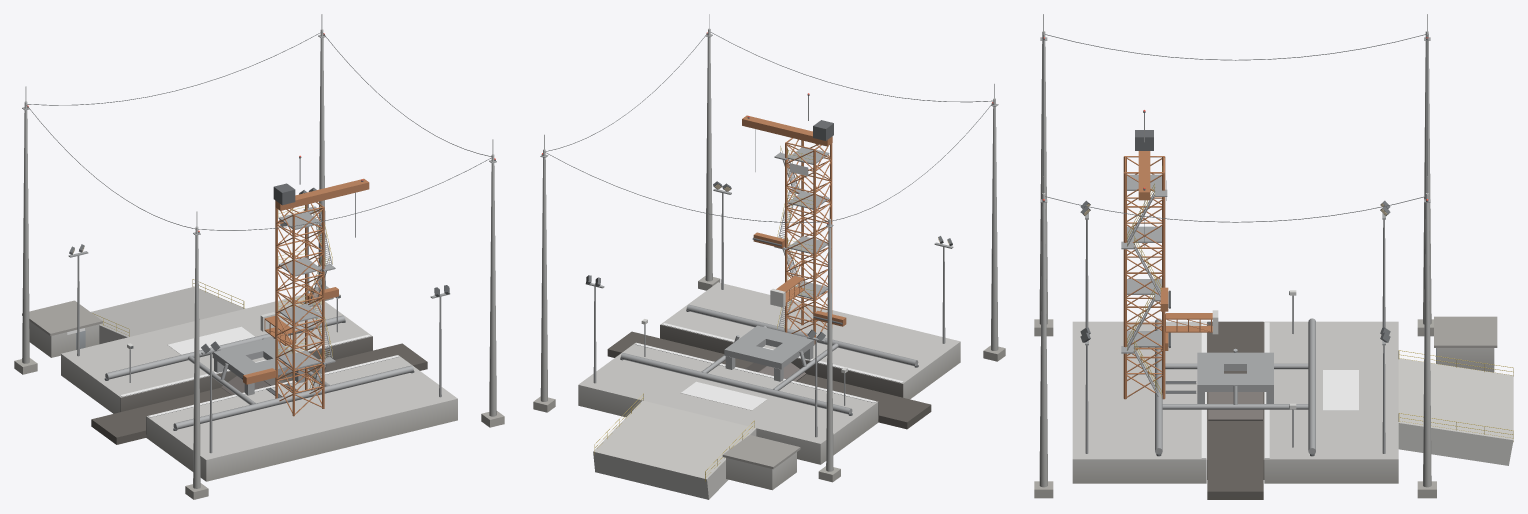
The model's file is pad.glb.
3 renders of one model, left to right at view 1: azimuth 30°, elevation 25°; view 2: azimuth 150°, elevation 25°; view 3: azimuth 270°, elevation 25°, orthographic. The views are drawn at different scales.
Visible parts, largest first — view 1: pad; view 2: pad; view 3: pad.
Boxes of the visible parts, box(x1,y1,x2,y2) form: pad: box(14, 14, 504, 499); pad: box(533, 14, 1005, 499); pad: box(1034, 14, 1513, 499).
Size of the model in its own units: 42 by 38.96 by 50.02.
